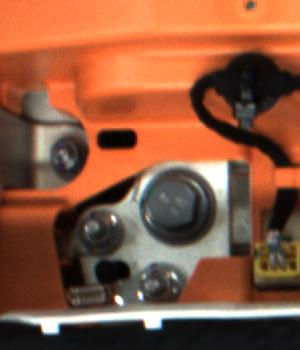nut_b: (139, 165, 212, 245)
